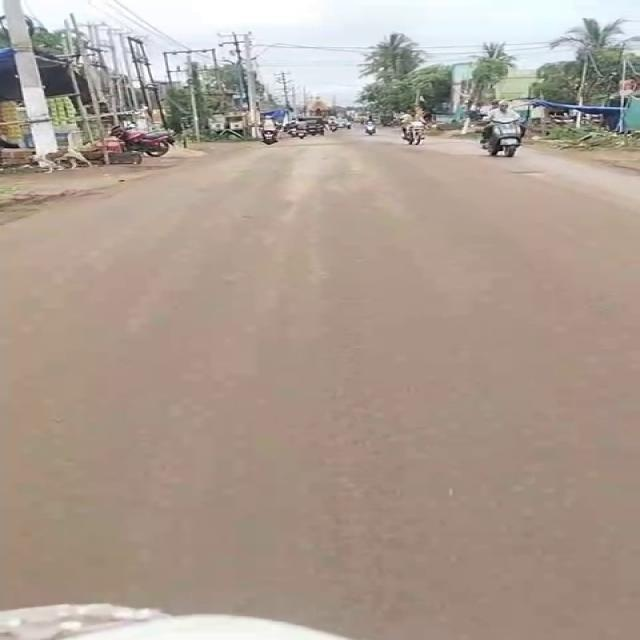pothole: (508, 166, 550, 178)
